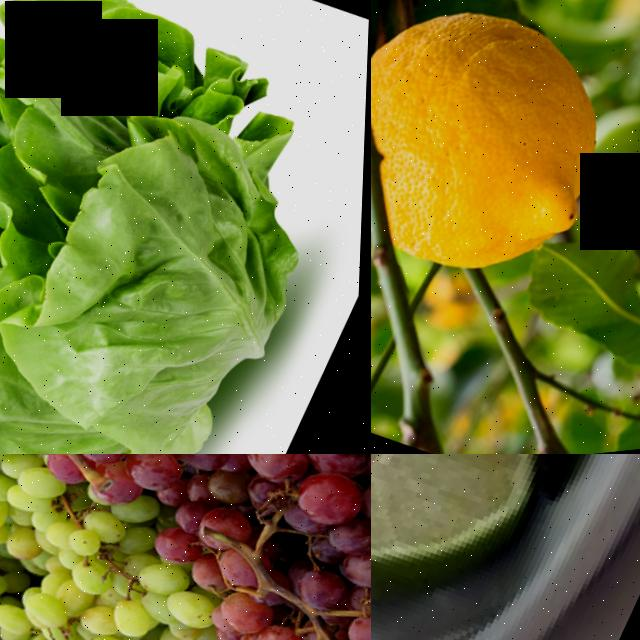grapes: (85, 454, 371, 640), (0, 493, 225, 640), (162, 534, 371, 640)
lemon: (371, 0, 640, 319), (371, 454, 579, 640)
lettuce: (0, 0, 371, 454)
